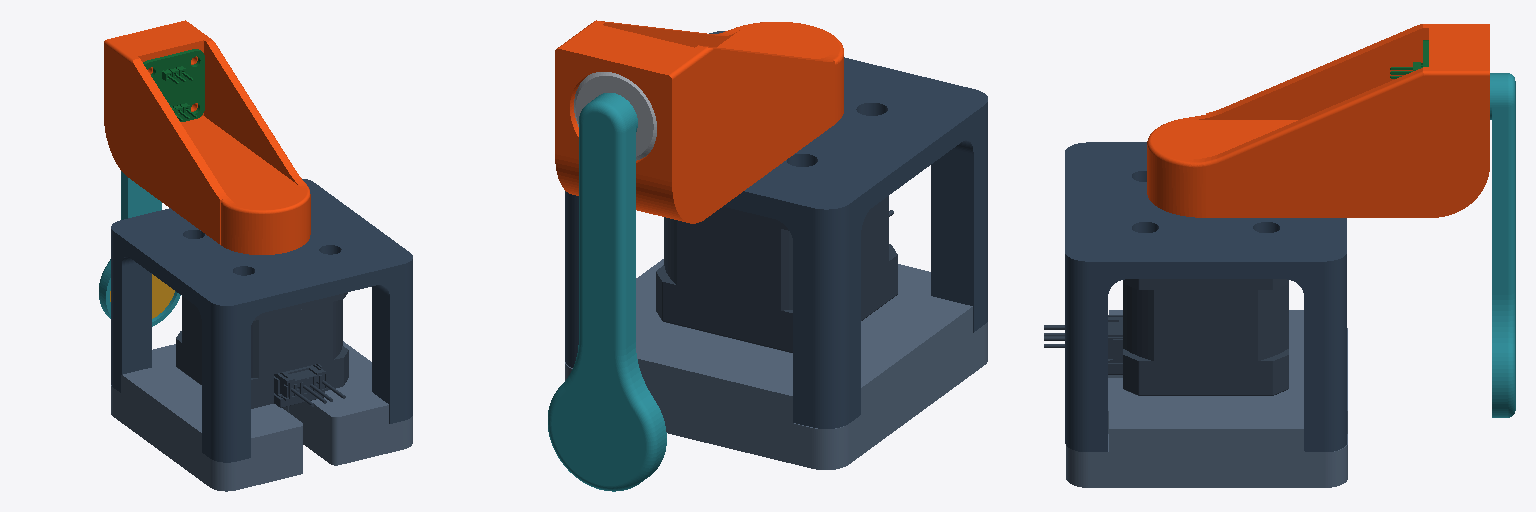
The robot description file, URDF, robot "ALatorre_Furuta":
<robot name="ALatorre_Furuta">
  <link name="world" />
  <link name="base">
    <visual>
      <geometry>
        <mesh filename="assets/00.stl" />
      </geometry>
      <material name="color0">
        <color rgba=".25 .3 .36 1" />
      </material>
    </visual>
    <visual>
      <geometry>
        <mesh filename="assets/03.stl" />
      </geometry>
      <material name="color3">
        <color rgba=".25 .32 .4 1" />
      </material>
    </visual>
    <visual>
      <geometry>
        <mesh filename="assets/04.stl" />
      </geometry>
      <material name="color4">
        <color rgba=".38 .45 .53 1" />
      </material>
    </visual>
  </link>
  <link name="arm">
    <inertial>
      <origin xyz="7.079457789e-07 0.04341343664 0.0638145924" />
      <mass value="0.041" />
      <inertia ixx="3.0383547249331195e-05" iyy="8.100837236458576e-06" izz="2.830907468362036e-05" ixy="7.549720165420439e-10" ixz="3.1378208053840058e-09" iyz="-6.710856376987184e-06" />
    </inertial>
    <visual>
      <geometry>
        <mesh filename="assets/02.stl" />
      </geometry>
      <material name="color2">
        <color rgba=".12 .45 .25 1" />
      </material>
    </visual>
    <visual>
      <geometry>
        <mesh filename="assets/05.stl" />
      </geometry>
      <material name="color5">
        <color rgba=".95 .36 .12 1" />
      </material>
    </visual>
    <visual>
      <geometry>
        <mesh filename="assets/06.stl" />
      </geometry>
      <material name="color6">
        <color rgba=".7 .72 .75 1" />
      </material>
    </visual>
  </link>
  <link name="pendulum">
    <inertial>
      <origin xyz="2.399588278e-13 -0.001311952579 -0.0462128584" />
      <mass value="0.0178" />
      <inertia ixx="2.081394355563133e-05" iyy="2.115381994692891e-05" izz="7.841096909855743e-07" ixy="2.8549388814493553e-17" ixz="-2.5449212717164193e-17" iyz="1.4314078410634334e-06" />
    </inertial>
    <visual>
      <geometry>
        <mesh filename="assets/07.stl" />
      </geometry>
      <material name="color7">
        <color rgba=".22 .6 .65 1" />
      </material>
    </visual>
    <visual>
      <geometry>
        <mesh filename="assets/08.stl" />
      </geometry>
      <material name="color8">
        <color rgba=".83 .62 .18 1" />
      </material>
    </visual>
  </link>
  <joint name="mount" type="fixed">
    <parent link="world" />
    <child link="base" />
    <origin xyz="0 0 0.0189127" />
  </joint>
  <joint name="arm_joint" type="revolute">
    <parent link="base" />
    <child link="arm" />
    <origin xyz="0 0 0" />
    <axis xyz="0 0 1" />
    <limit lower="-1.7453292519943295" upper="1.7453292519943295" effort="0.12" velocity="8.0" />
  </joint>
  <joint name="pendulum_joint" type="continuous">
    <parent link="arm" />
    <child link="pendulum" />
    <origin xyz="6.7e-06 0.075 0.0745" />
    <axis xyz="0 1 0" />
  </joint>
</robot>

--- What the picture shows (computed from the rendered views, not written in the file) ---
The picture shows the robot from 3 angles, left to right: view 1: azimuth 30°, elevation 25°; view 2: azimuth 150°, elevation 25°; view 3: azimuth 270°, elevation 25°; orthographic projection.
Robot: ALatorre_Furuta — 4 links, 3 joints (1 revolute, 1 continuous, 1 fixed); root link world; default pose: all joints at 0.
Visible links, largest first — view 1: base, arm, pendulum; view 2: base, arm, pendulum; view 3: base, arm, pendulum.
Boxes of the visible links, <box> form: base: <box>111,179,412,491</box>; arm: <box>104,20,310,254</box>; pendulum: <box>99,171,180,326</box>; base: <box>565,31,987,469</box>; arm: <box>555,20,843,223</box>; pendulum: <box>548,93,666,491</box>; base: <box>1044,142,1347,487</box>; arm: <box>1147,24,1489,217</box>; pendulum: <box>1490,73,1515,417</box>.
Bounding box of the posed robot: 0.072 × 0.1203 × 0.1073 m (x, y, z).
8 mesh visuals loaded from 8 distinct referenced files (8 binary STL).
